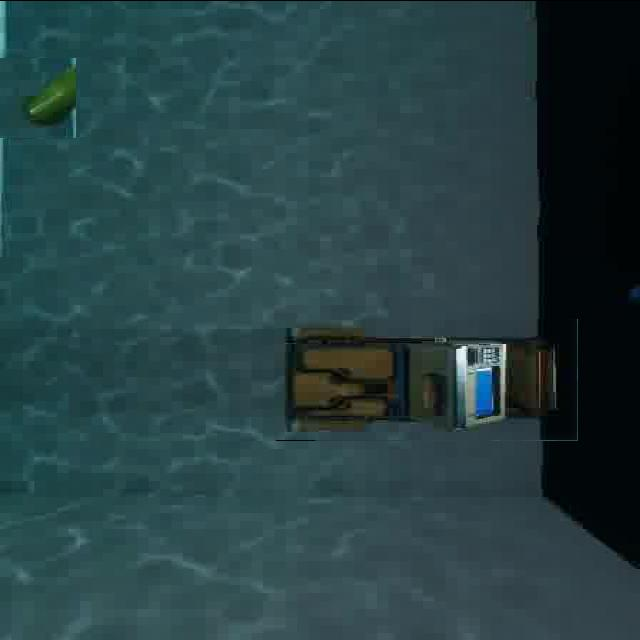Control Panel: (276, 318, 578, 440)
Pipe: (0, 57, 77, 138)
